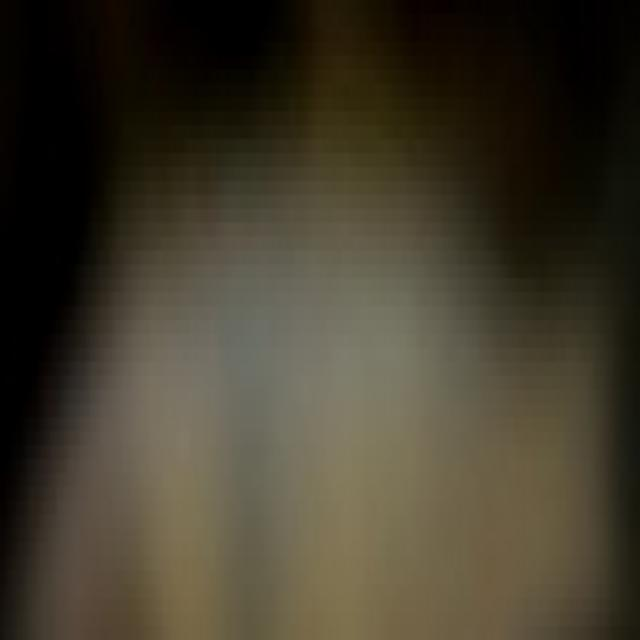fish: (3, 14, 640, 640)
